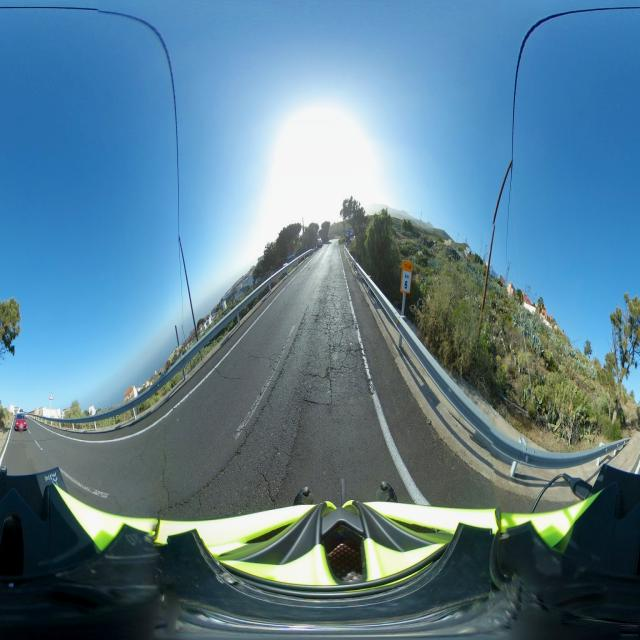car: (14, 413, 28, 433)
